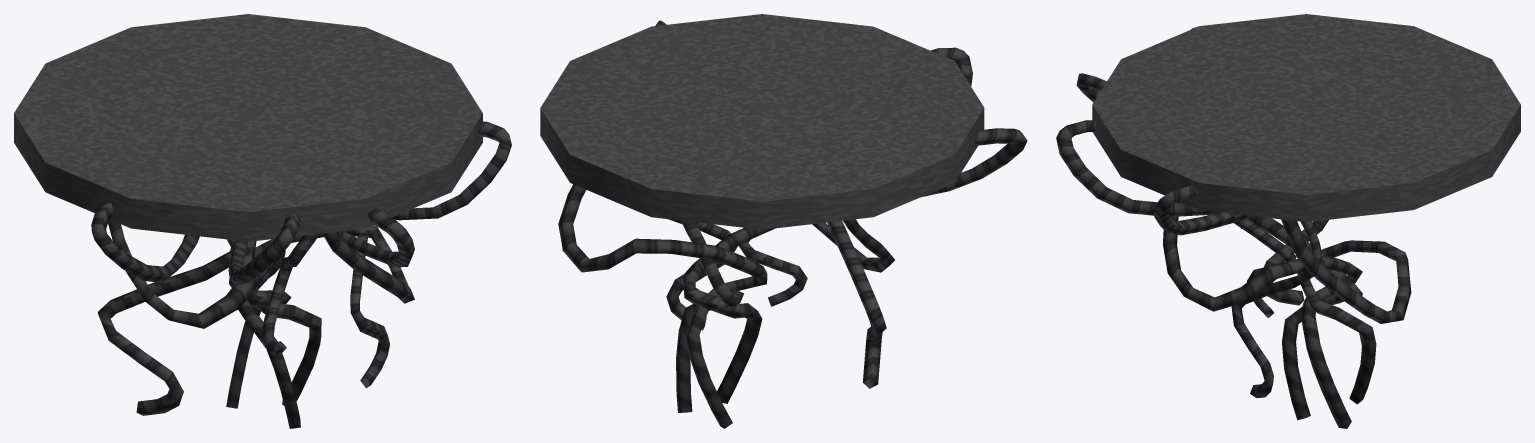
Rendered from Infected_Platform.FBX.
The picture shows the model from 3 angles, left to right: view 1: azimuth 30°, elevation 25°; view 2: azimuth 150°, elevation 25°; view 3: azimuth 270°, elevation 25°; orthographic projection. The views are drawn at different scales.
Parts seen in each view (by area): view 1: Cylinder001; view 2: Cylinder001; view 3: Cylinder001.
Part boxes in pixels (left/top/right/bottom): Cylinder001: left=14, top=14, right=511, bottom=428; Cylinder001: left=540, top=14, right=1027, bottom=428; Cylinder001: left=1056, top=14, right=1520, bottom=428.
Bounding box in the file's own units: 81.43 × 60 × 85.4.
1 material, 1 textured.
